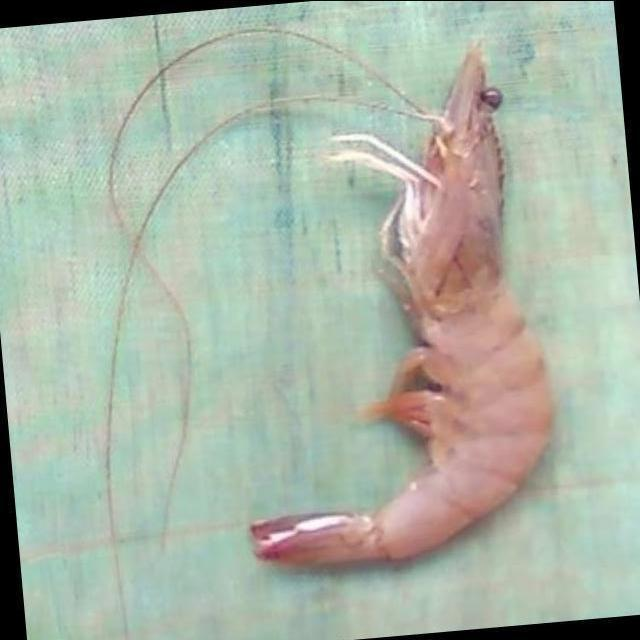shrimp: (250, 44, 554, 565)
